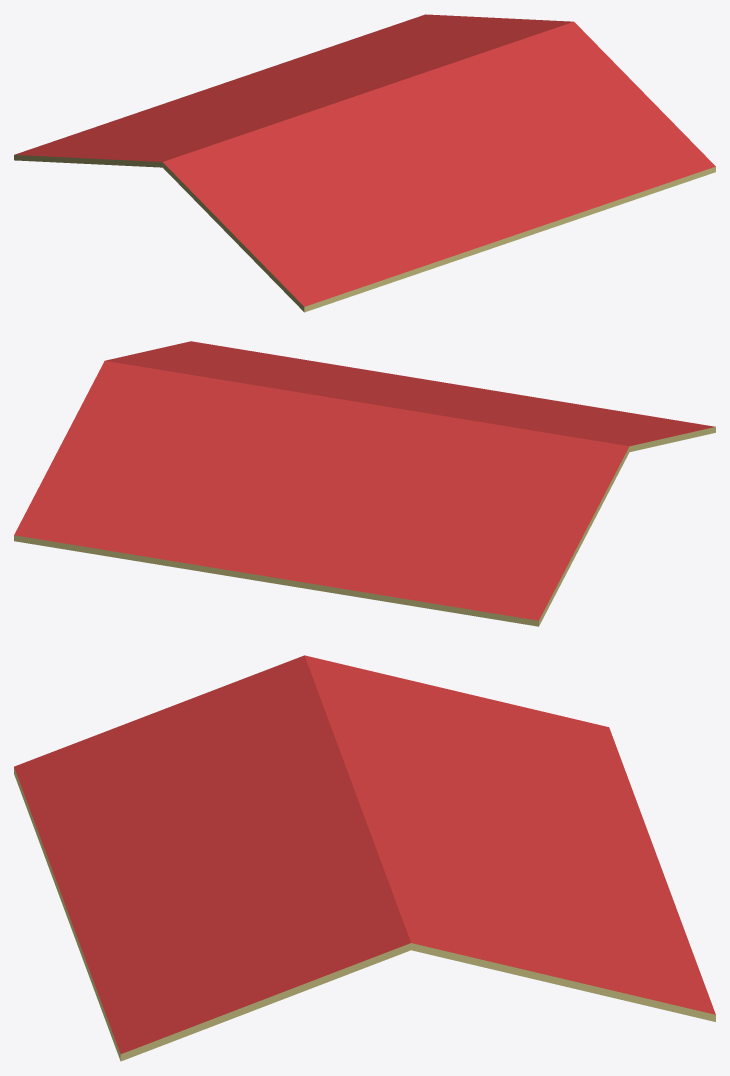
3 views of the same model, one above another, from view 1: azimuth 30°, elevation 25°; view 2: azimuth 150°, elevation 25°; view 3: azimuth 270°, elevation 25° (orthographic). The views are drawn at different scales.
Size of the model in its own units: 9.63 by 8.74 by 1.36.
